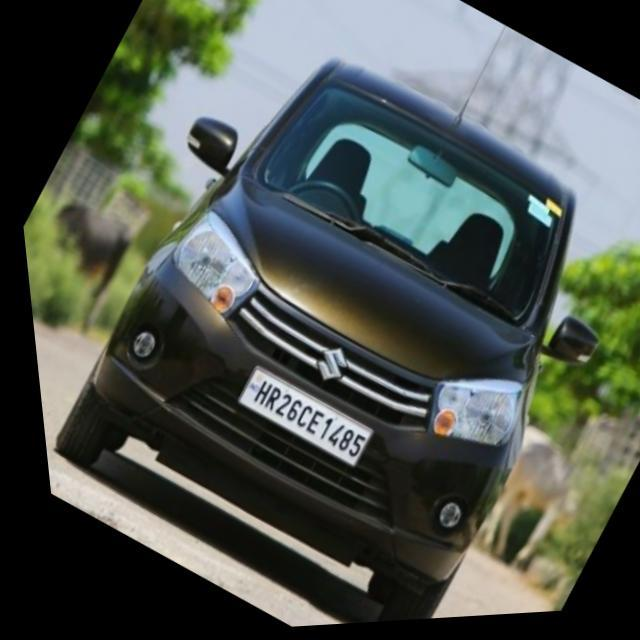license_plate: (211, 349, 376, 482)
